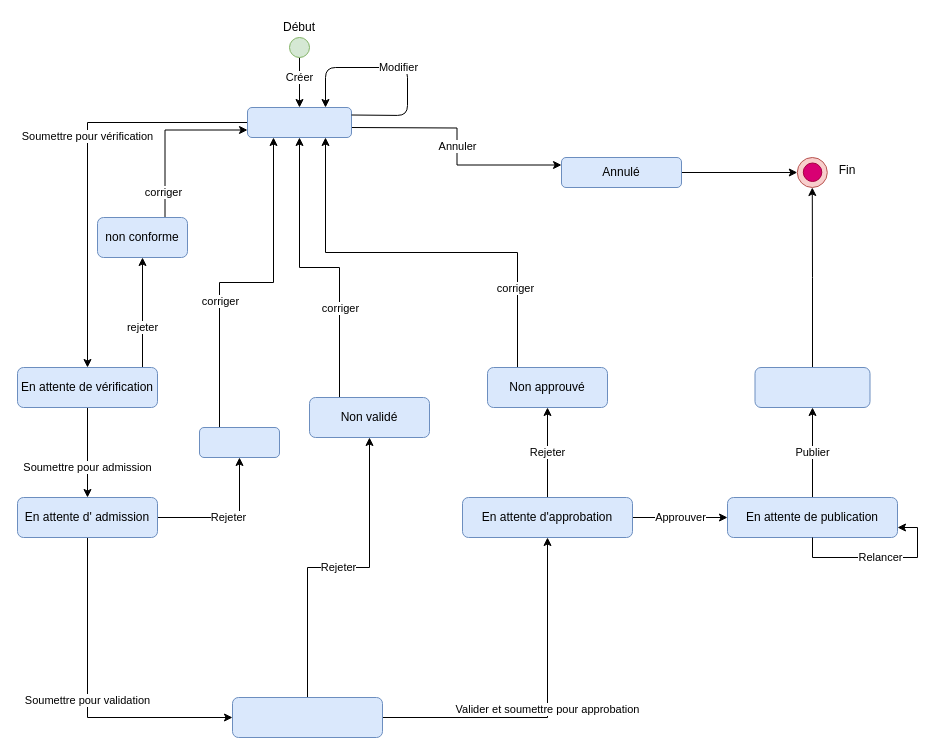
This 943x755 diagram has some shape labels left out. The centre of each missing label's shape, as x and y in pixels:
"Brouillon" belongs at point (299, 122).
"En attente de validation" belongs at point (307, 717).
"Non admis" belongs at point (239, 442).
"Publié" belongs at point (812, 387).
